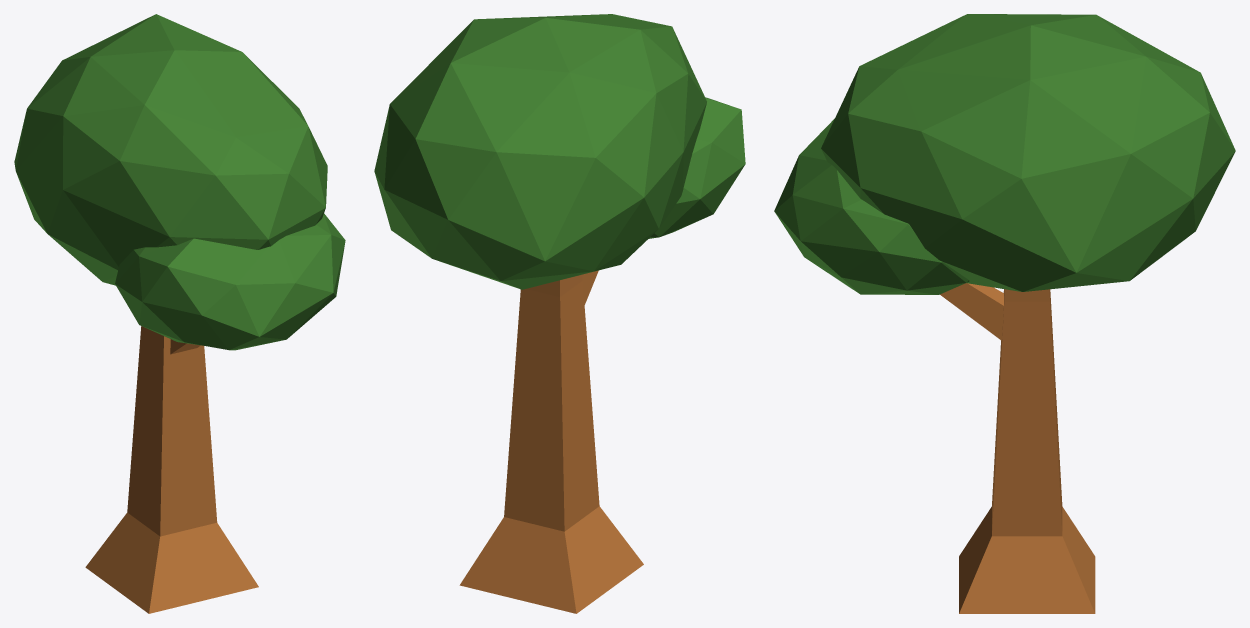
The model's file is tree2.fbx.
3 views of the same model, side by side, from view 1: azimuth 30°, elevation 25°; view 2: azimuth 150°, elevation 25°; view 3: azimuth 270°, elevation 25° (orthographic). The views are drawn at different scales.
Visible parts, largest first — view 1: Cube.002; view 2: Cube.002; view 3: Cube.002.
Part boxes in pixels (<box>): Cube.002: <box>14,14,345,613</box>; Cube.002: <box>374,14,745,613</box>; Cube.002: <box>774,14,1235,613</box>.
Size of the model in its own units: 932 by 1758 by 1309.
